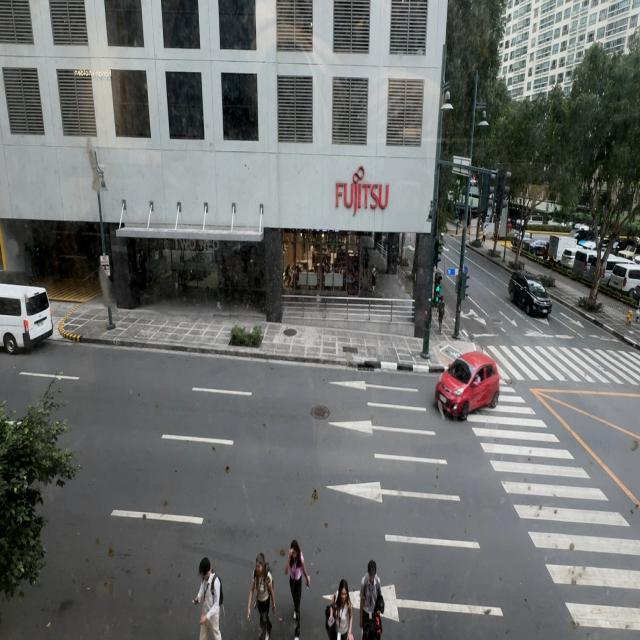jaywalking: (191, 548, 229, 640), (358, 548, 390, 640), (286, 544, 311, 640), (248, 541, 272, 640), (328, 578, 352, 640)
